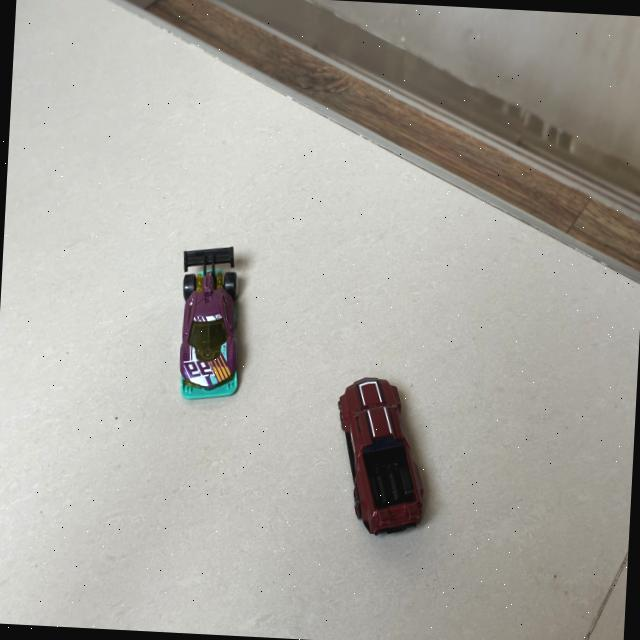cars: (338, 378, 424, 534), (180, 247, 237, 399)
